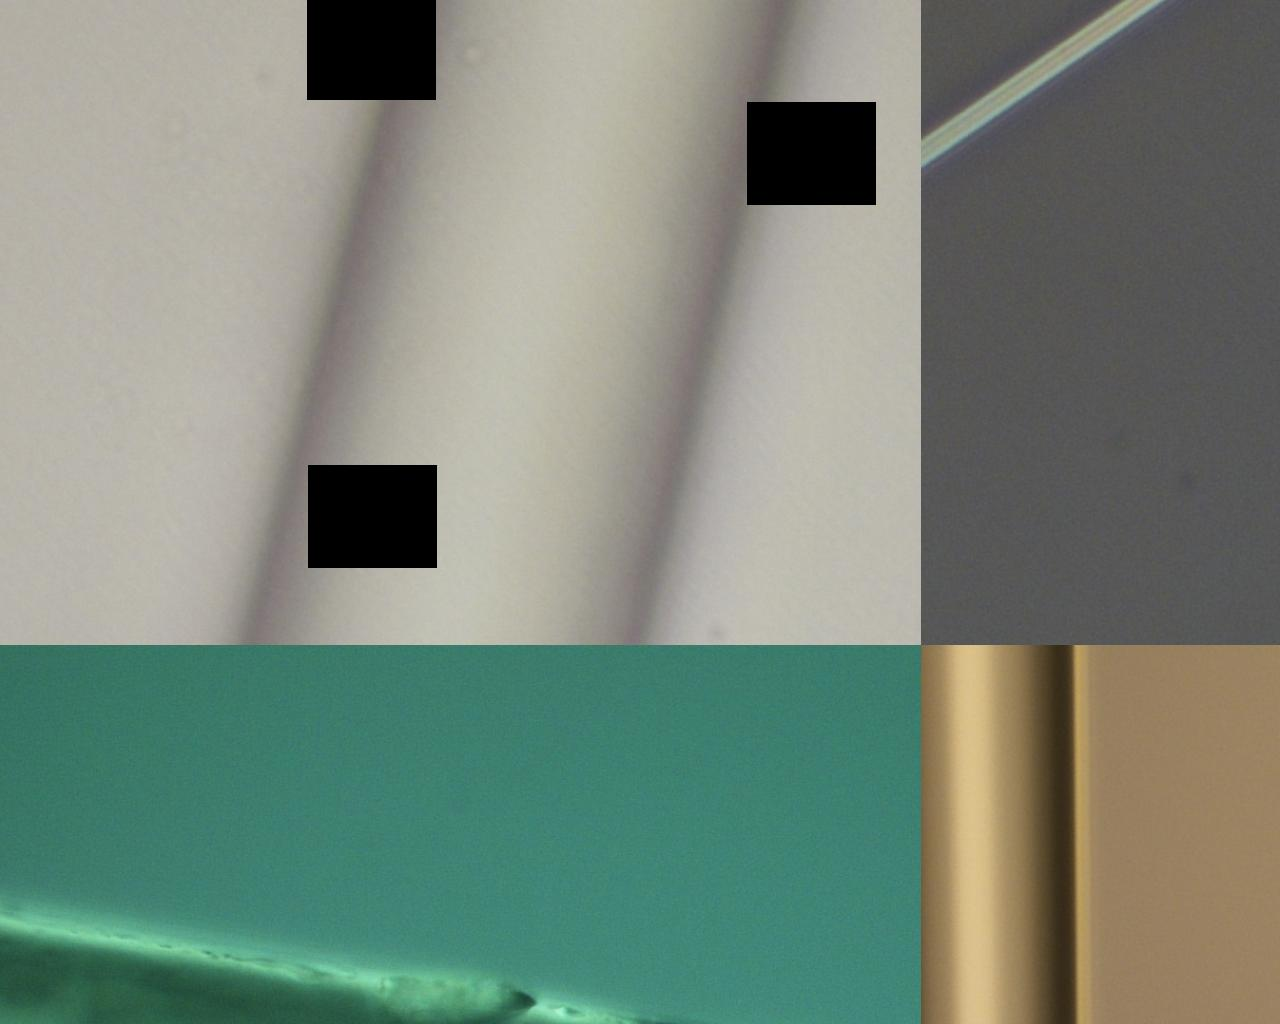fiber: (128, 7, 1152, 190)
